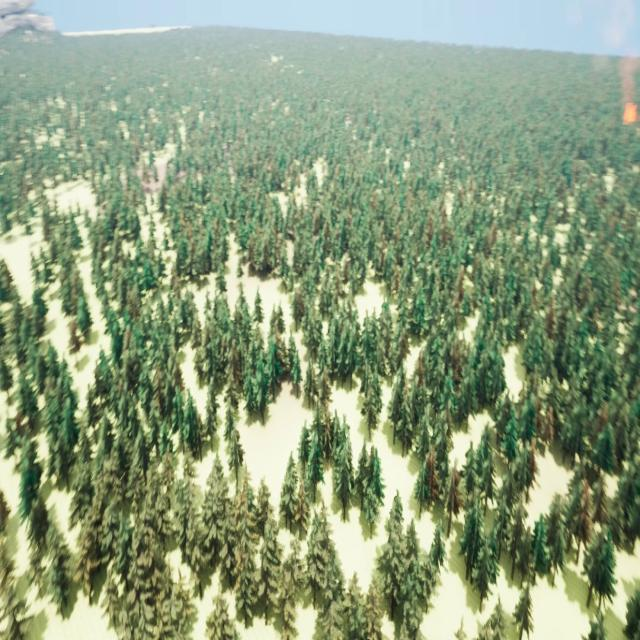fire: (622, 101, 638, 125)
smoke: (590, 0, 640, 103)
